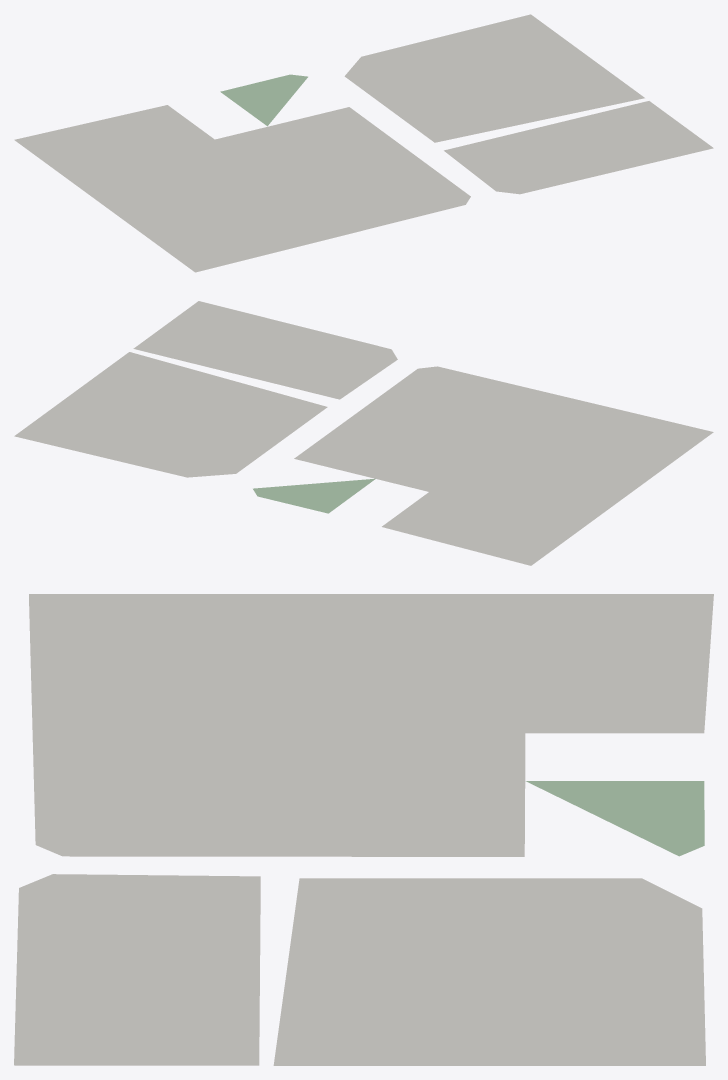
File: 142_113_mid.glb
The picture shows the model from 3 angles, top to bottom: view 1: azimuth 30°, elevation 25°; view 2: azimuth 150°, elevation 25°; view 3: azimuth 270°, elevation 25°; orthographic projection. The views are drawn at different scales.
Bounding box in the file's own units: 500 × 1.47 × 312.
